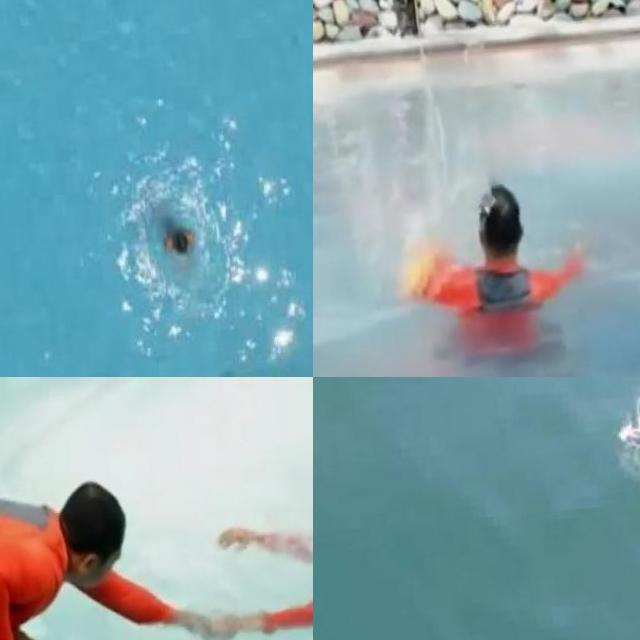drowning: (385, 154, 585, 376), (212, 477, 313, 640)
out of water: (0, 451, 170, 640), (349, 0, 433, 42)
swimming: (152, 220, 204, 272)
